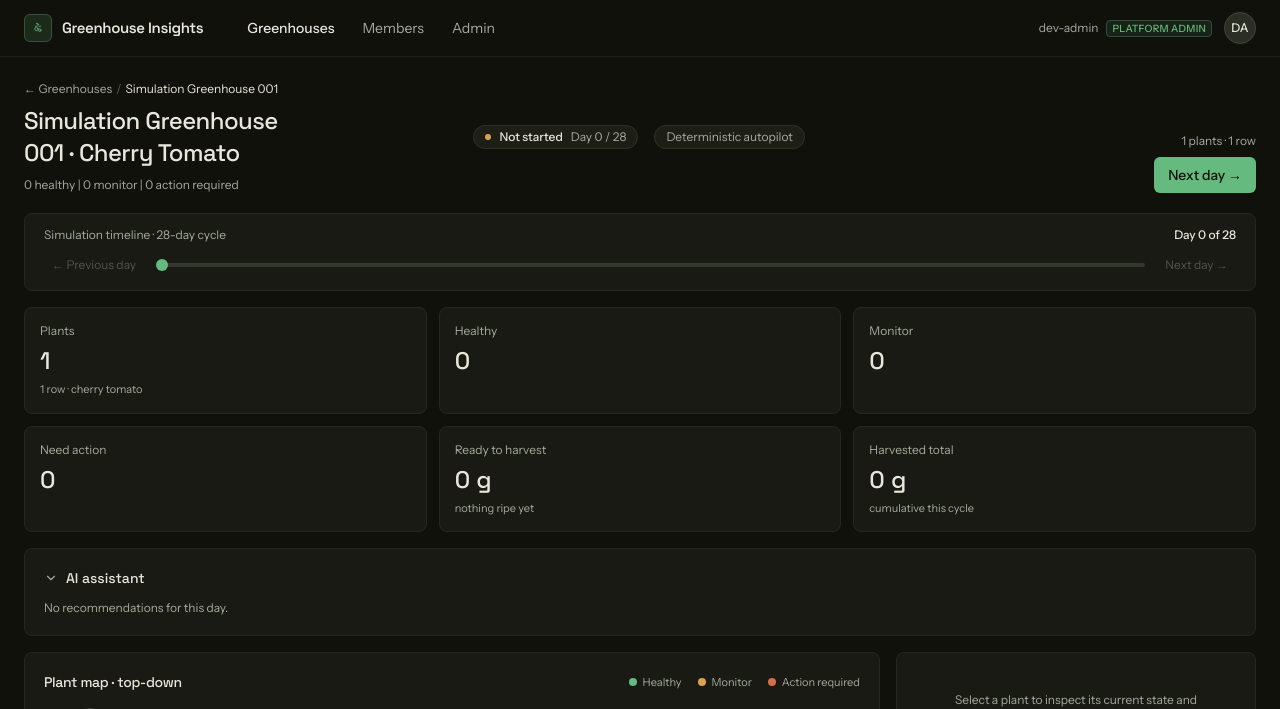
GreenhouseDashboardPage › clicking next day advances one day and updates progress and KPIs
Click the button "Next day →" below "plants ·" at (1205, 175), box [1154,157,1256,193]
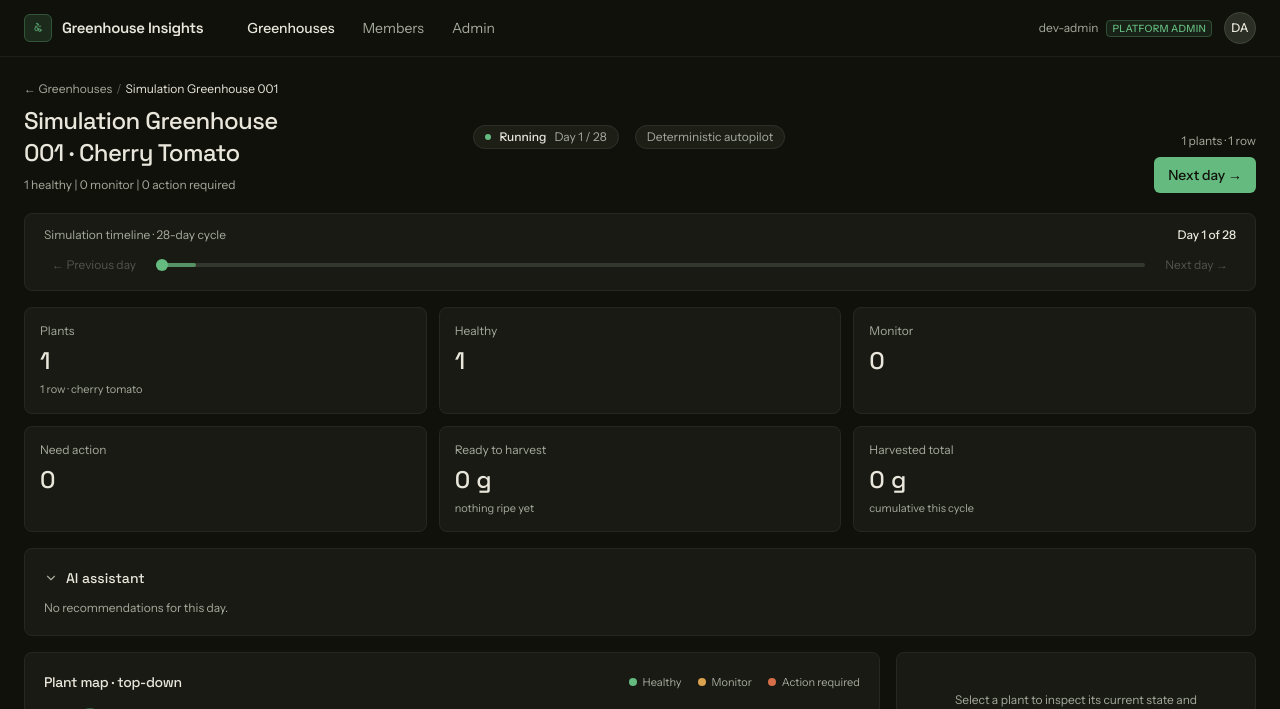
Expected: the text "1 healthy | 0 monitor | 0 action required" is shown, [24,177,236,192]
Expected: the text "Day 1 / 28" is shown, [554,129,607,145]
